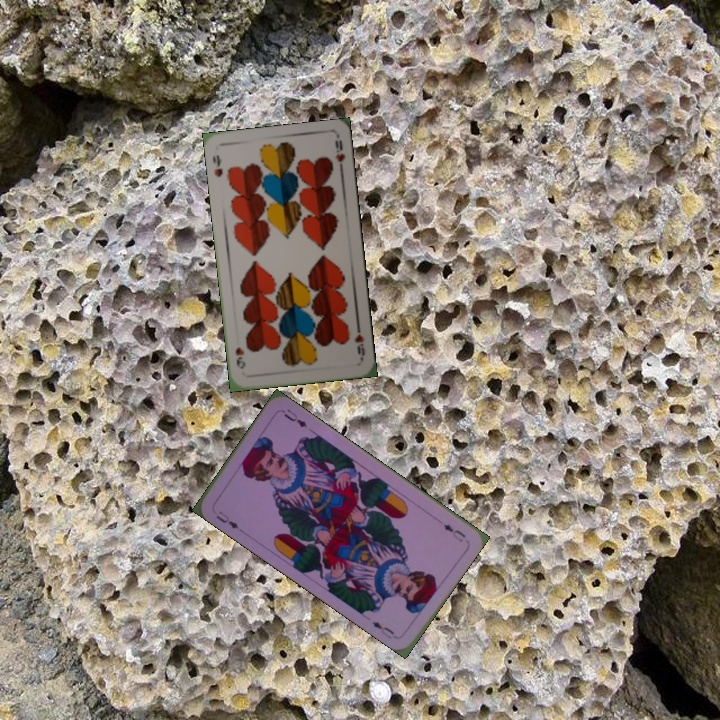EU: (212, 507, 241, 532), (439, 520, 468, 545)
H9: (350, 321, 367, 362), (208, 151, 225, 180)
